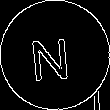N_N: (32, 28, 78, 82)
